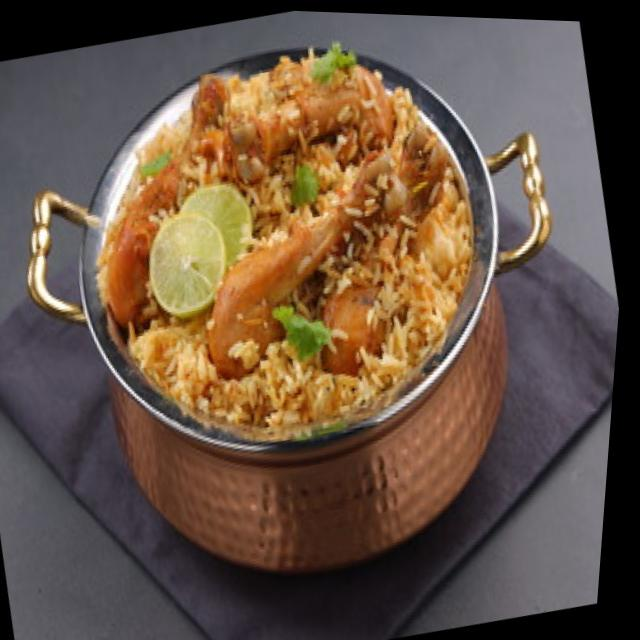BIRIYANI: (99, 44, 461, 422)
